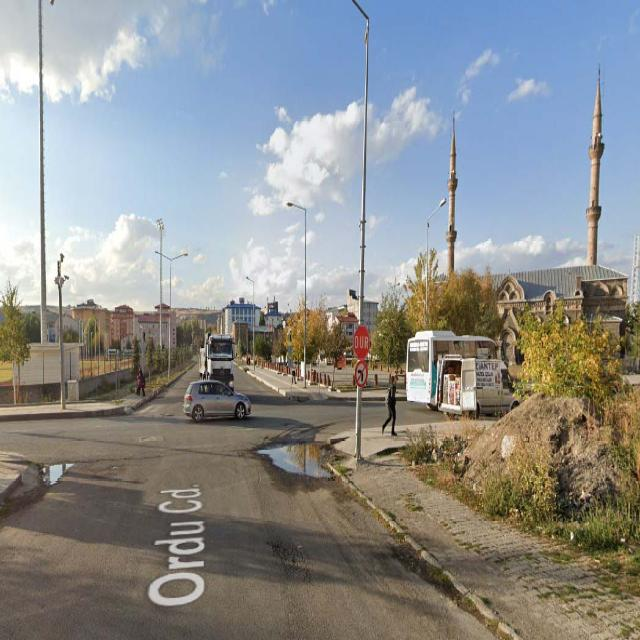dur: (352, 324, 371, 357)
soladonulmez: (354, 360, 368, 388)
